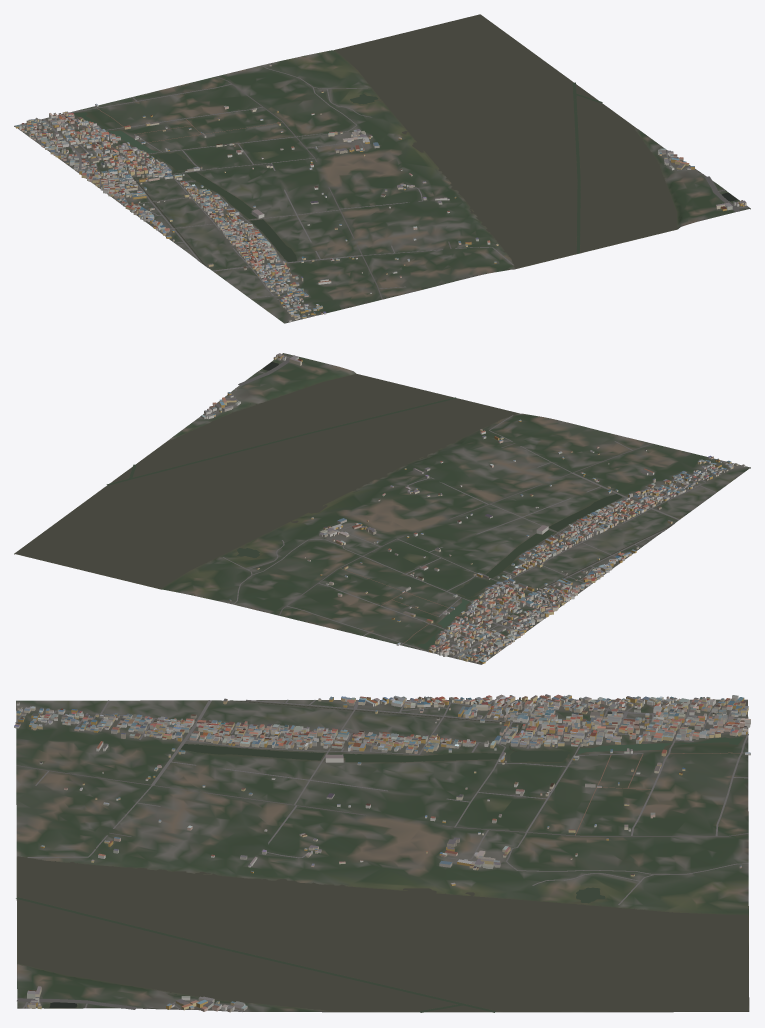
The picture shows the model from 3 angles, top to bottom: view 1: azimuth 30°, elevation 25°; view 2: azimuth 150°, elevation 25°; view 3: azimuth 270°, elevation 25°; orthographic projection. The views are drawn at different scales.
Parts seen in each view (by area): view 1: ground, water, buildings, roads; view 2: ground, water, buildings, roads; view 3: ground, water, buildings, roads.
Part boxes in pixels (x1=…): ground: x1=14, y1=15, x2=750, y2=323; water: x1=73, y1=14, x2=737, y2=268; buildings: x1=15, y1=64, x2=746, y2=321; roads: x1=24, y1=65, x2=748, y2=318; ground: x1=14, y1=353, x2=750, y2=664; water: x1=15, y1=362, x2=671, y2=649; buildings: x1=201, y1=353, x2=745, y2=663; roads: x1=200, y1=354, x2=735, y2=657; ground: x1=16, y1=699, x2=749, y2=1012; water: x1=16, y1=700, x2=748, y2=1012; buildings: x1=14, y1=694, x2=750, y2=1012; roads: x1=15, y1=699, x2=748, y2=1011.
Bounding box in the file's own units: 1416 × 24.31 × 1411.
